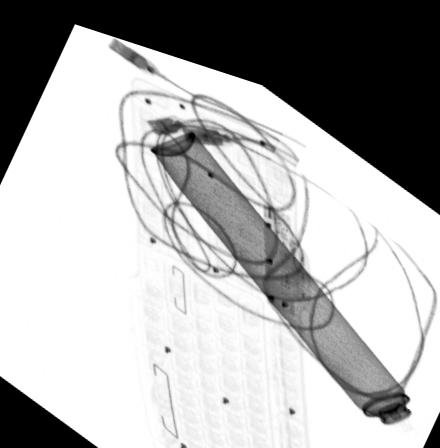Sprayer: (146, 115, 431, 427)
